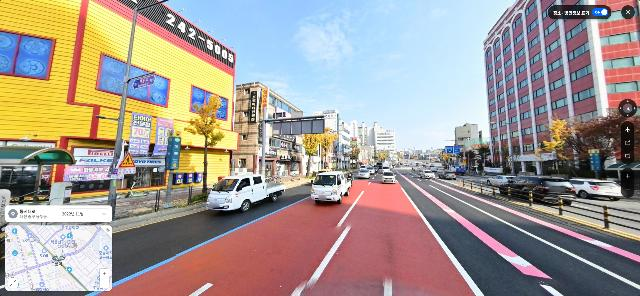ginkgo: (188, 93, 226, 193), (537, 118, 590, 179), (301, 128, 337, 179)
other: (552, 108, 640, 183)
